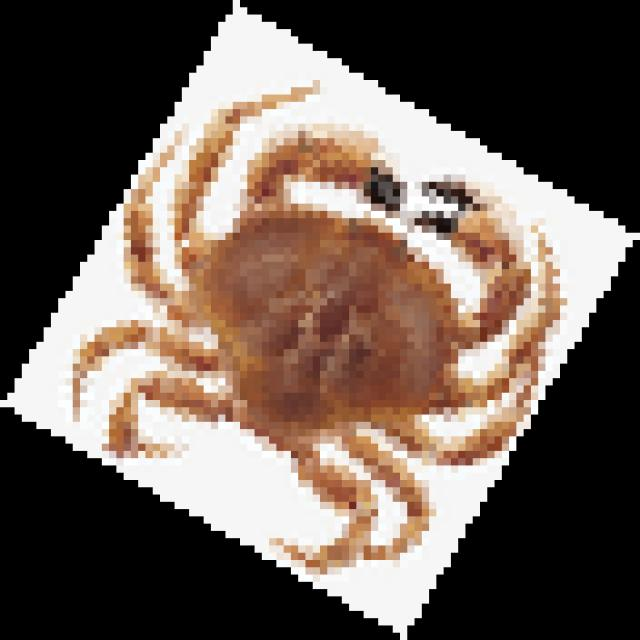Native Jonah crab: (73, 87, 553, 567)
